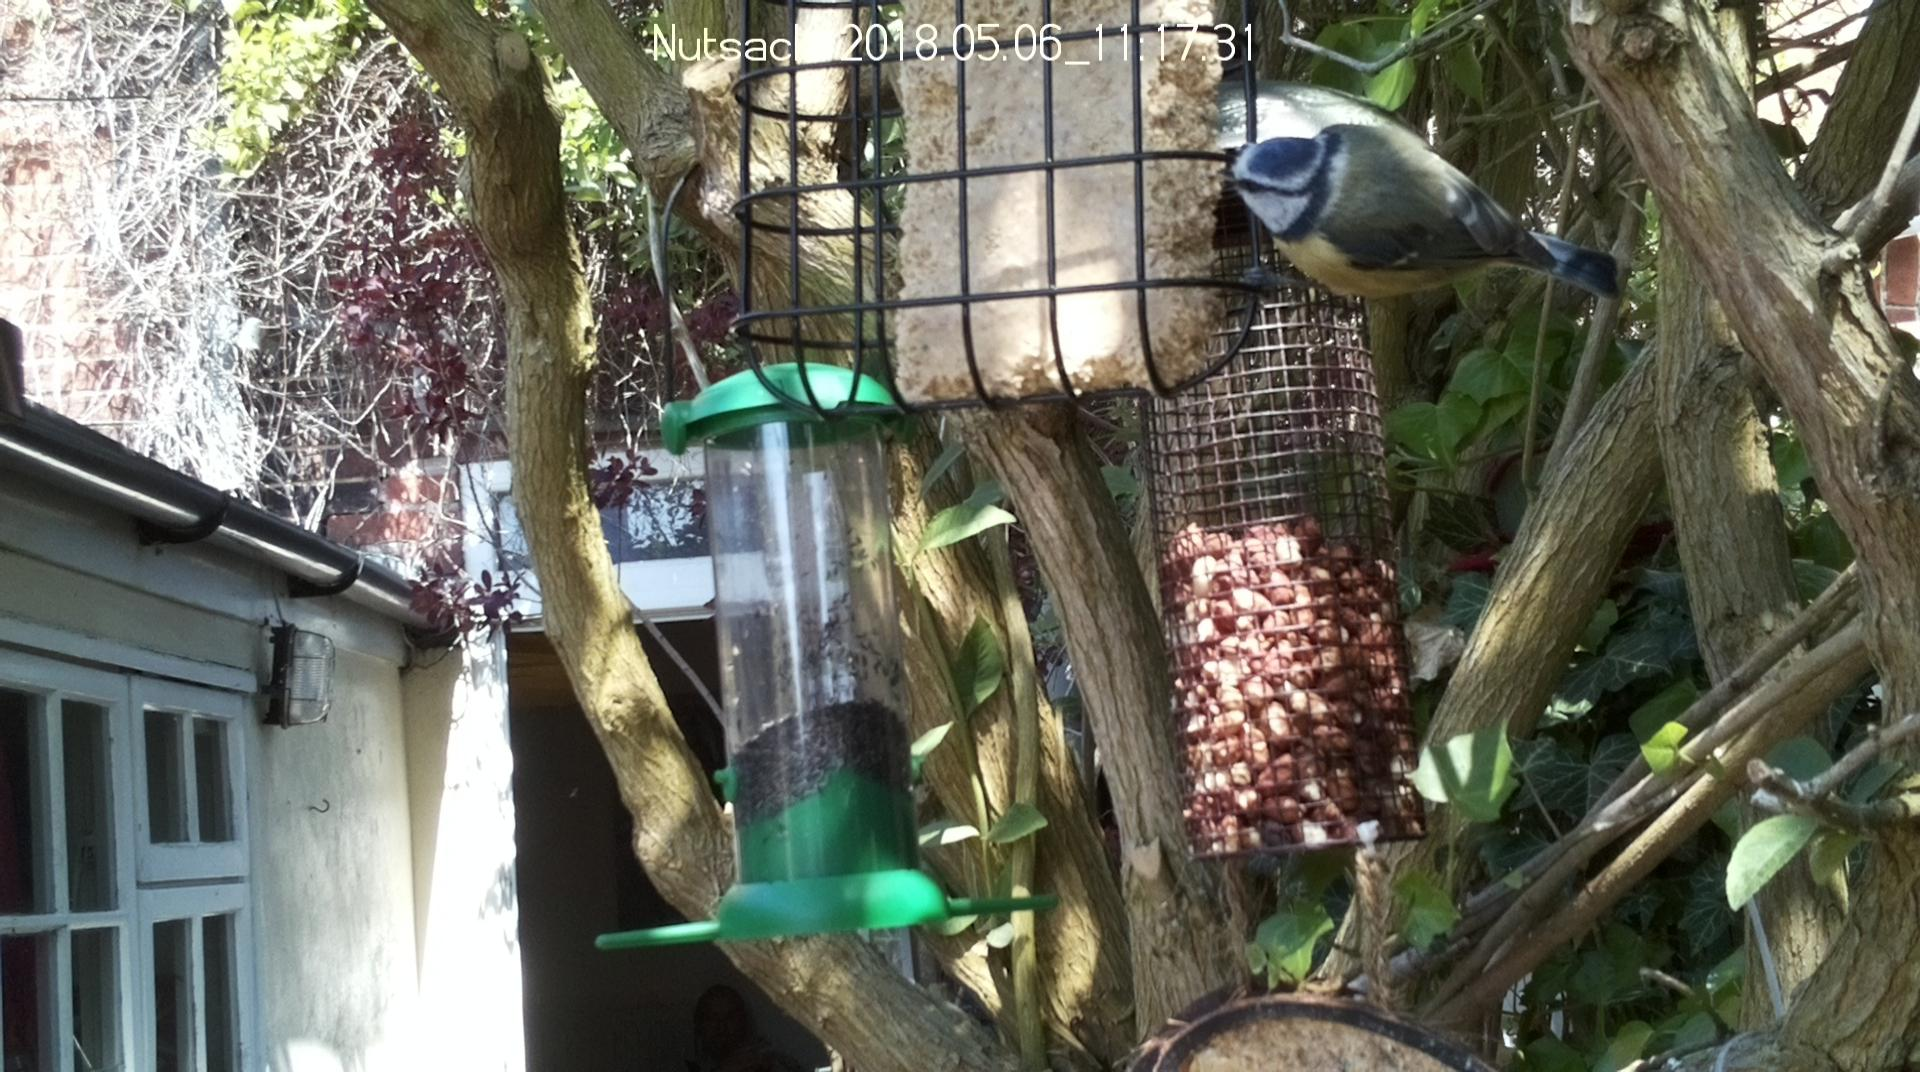blue tit: (1216, 123, 1618, 302)
